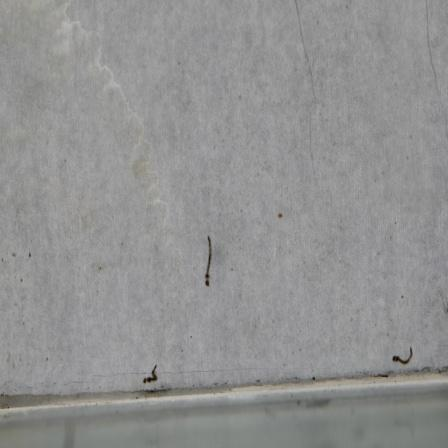Jentik-Nyamuk: (139, 359, 161, 387), (202, 236, 213, 289), (390, 345, 417, 365)
